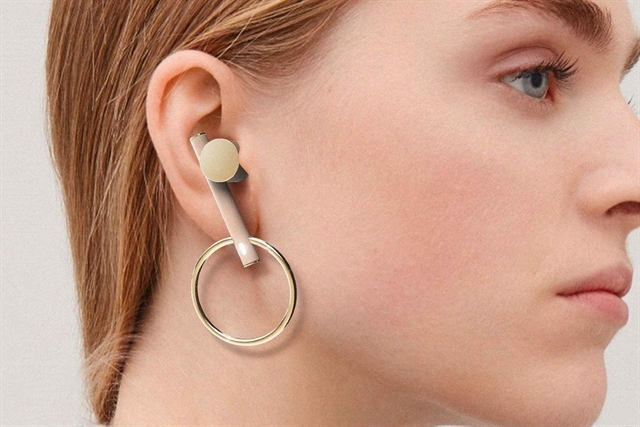earphone: (146, 50, 261, 250)
